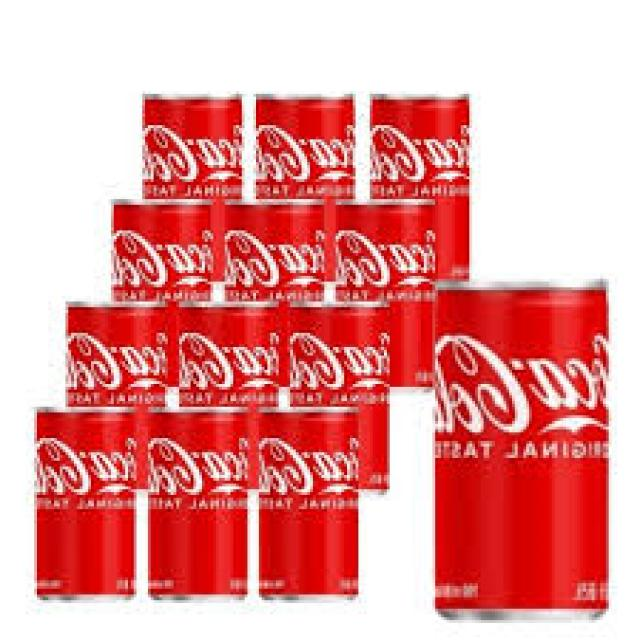Coca-Cola: (431, 268, 619, 624), (368, 82, 482, 295), (255, 394, 367, 608), (284, 292, 403, 493), (143, 396, 254, 605), (252, 87, 364, 292), (175, 296, 287, 494), (30, 405, 140, 605), (131, 82, 244, 273), (106, 198, 218, 389), (224, 193, 330, 392), (62, 295, 168, 489), (336, 194, 442, 387)
